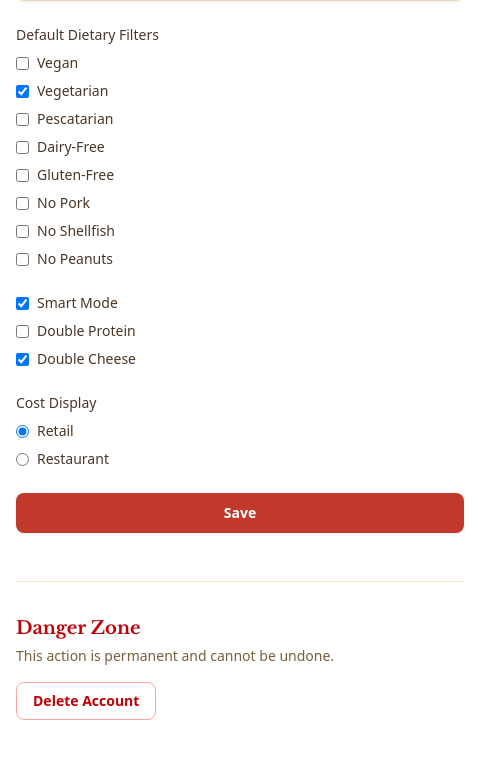
Test: SettingsPage › when authenticated › shows success message after saving
(page scrolled)
Click the button "Save".
click(240, 513)  # box x1=16 y1=493 x2=464 y2=533
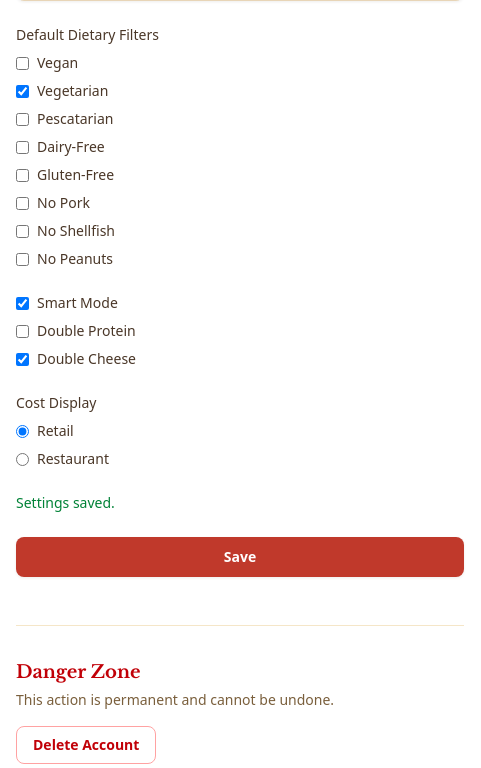
expect the text "Settings saved." is shown: met, box x1=16 y1=493 x2=115 y2=512
